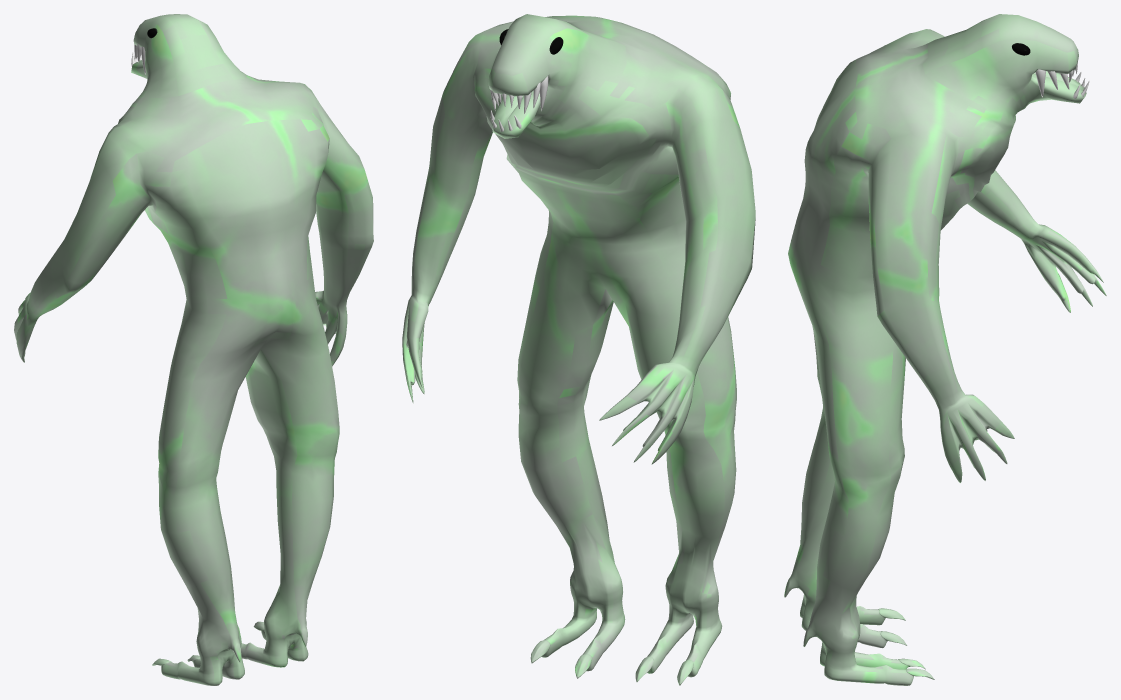
File: Berserkeraranar.0067.obj
3 views of the same model, side by side, from view 1: azimuth 30°, elevation 25°; view 2: azimuth 150°, elevation 25°; view 3: azimuth 270°, elevation 25° (orthographic). The views are drawn at different scales.
Parts seen in each view (by area): view 1: polySurface27; view 2: polySurface27; view 3: polySurface27.
Boxes of the visible parts, bbox=[...] form: polySurface27: bbox=[14, 14, 373, 685]; polySurface27: bbox=[402, 14, 755, 685]; polySurface27: bbox=[784, 14, 1106, 685].
Bounding box in the file's own units: 11.97 × 23.91 × 10.74.
1 material, 1 textured.
